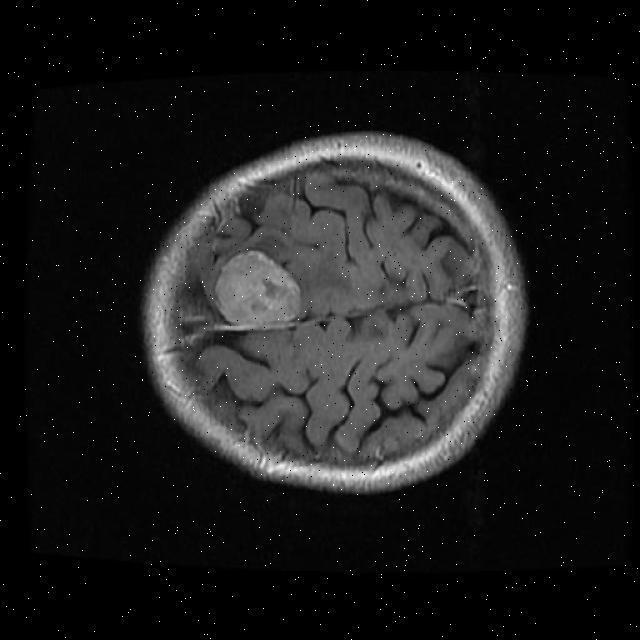Meningioma: (214, 250, 300, 327)
